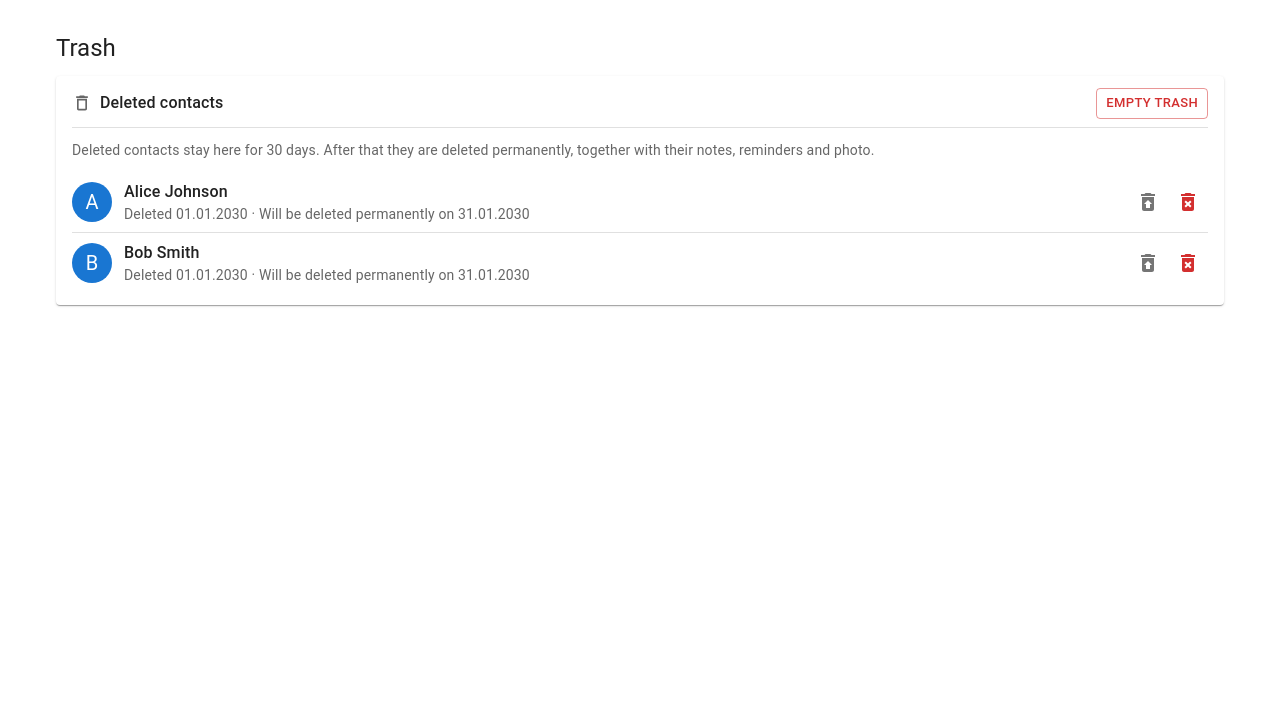
it: TrashPage › empties the whole trash after confirmation
Expected: the text "Alice Johnson" is shown, 124,182 -> 228,201
Step 1. Click the button "Empty trash" → (1152, 103), box 1096,88 -> 1208,119
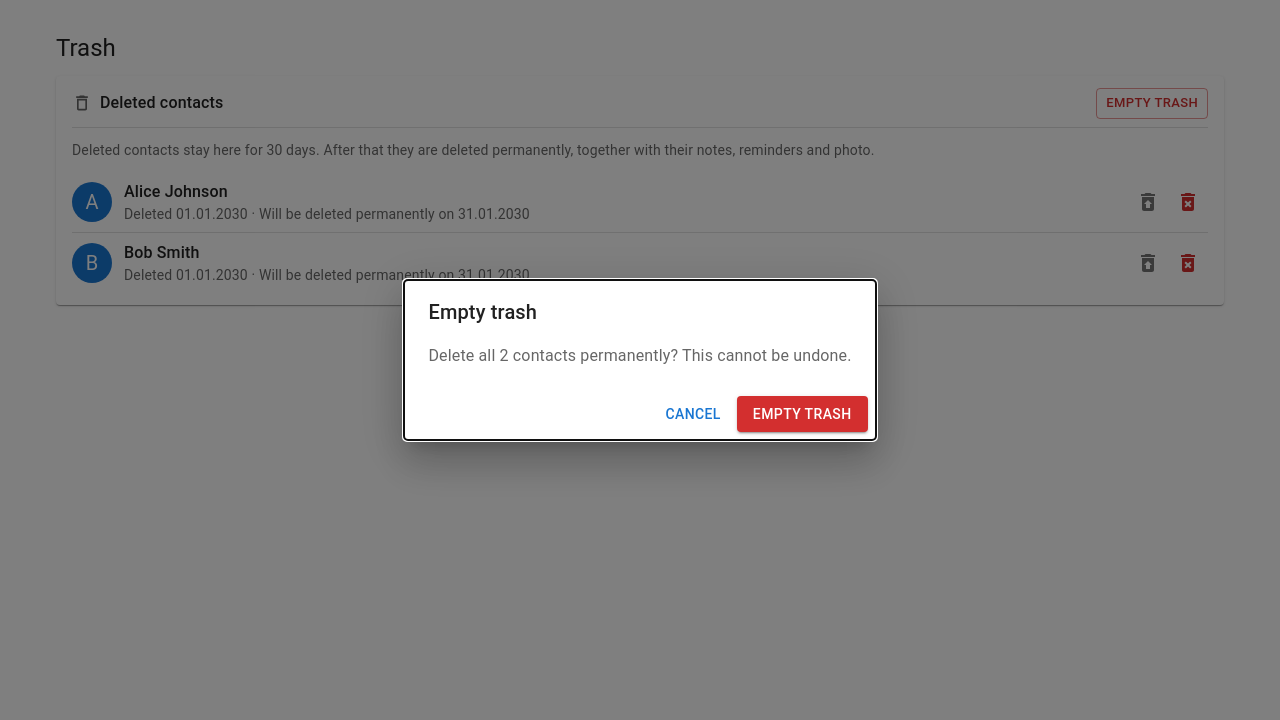
Expected: the text "Delete all 2 contacts permanently? This cannot be undone." is shown, 428,344 -> 852,368
Step 2. Click the button "Empty trash" → (802, 414), box 737,396 -> 868,432
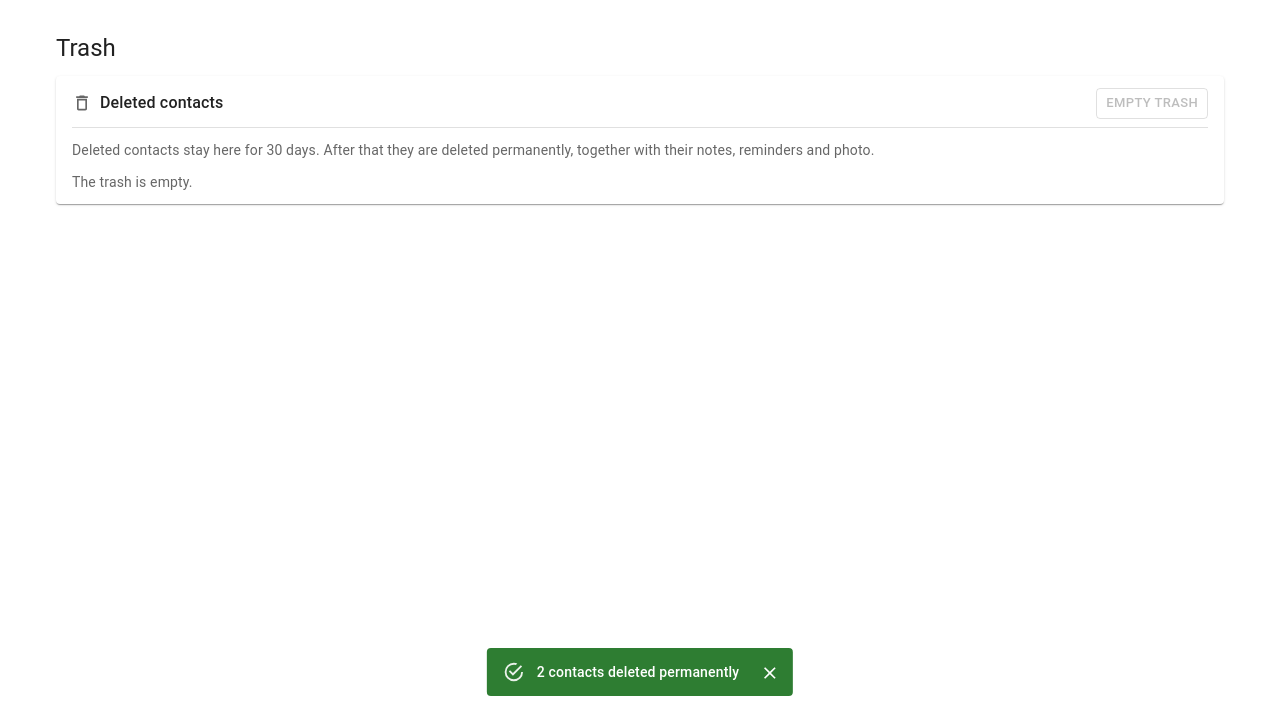
Expected: the text "The trash is empty." is shown, 72,174 -> 193,190
